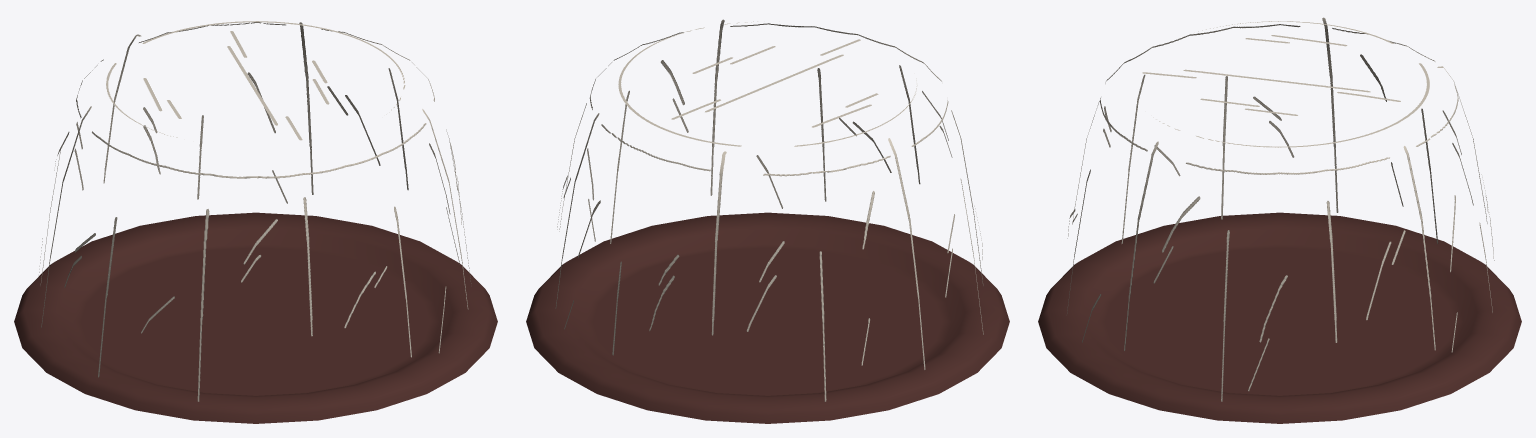
The model's file is cake_box.fbx.
3 renders of one model, left to right at view 1: azimuth 30°, elevation 25°; view 2: azimuth 150°, elevation 25°; view 3: azimuth 270°, elevation 25°, orthographic.
Visible parts, largest first — view 1: cake_box_2; view 2: cake_box_2; view 3: cake_box_2.
Boxes of the visible parts, x1,y1,x2,y2 form: cake_box_2: (14,21,497,423); cake_box_2: (526,19,1009,423); cake_box_2: (1038,17,1521,423).
Bounding box in the file's own units: 31.9 × 17.35 × 31.9.
